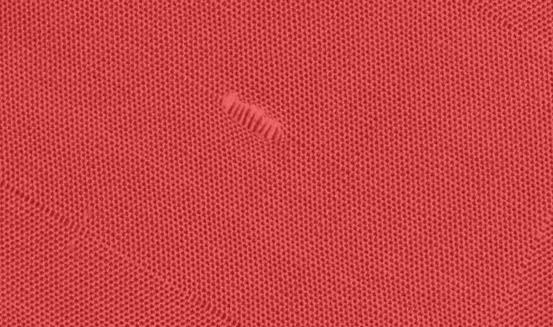slub: (215, 85, 292, 145)
